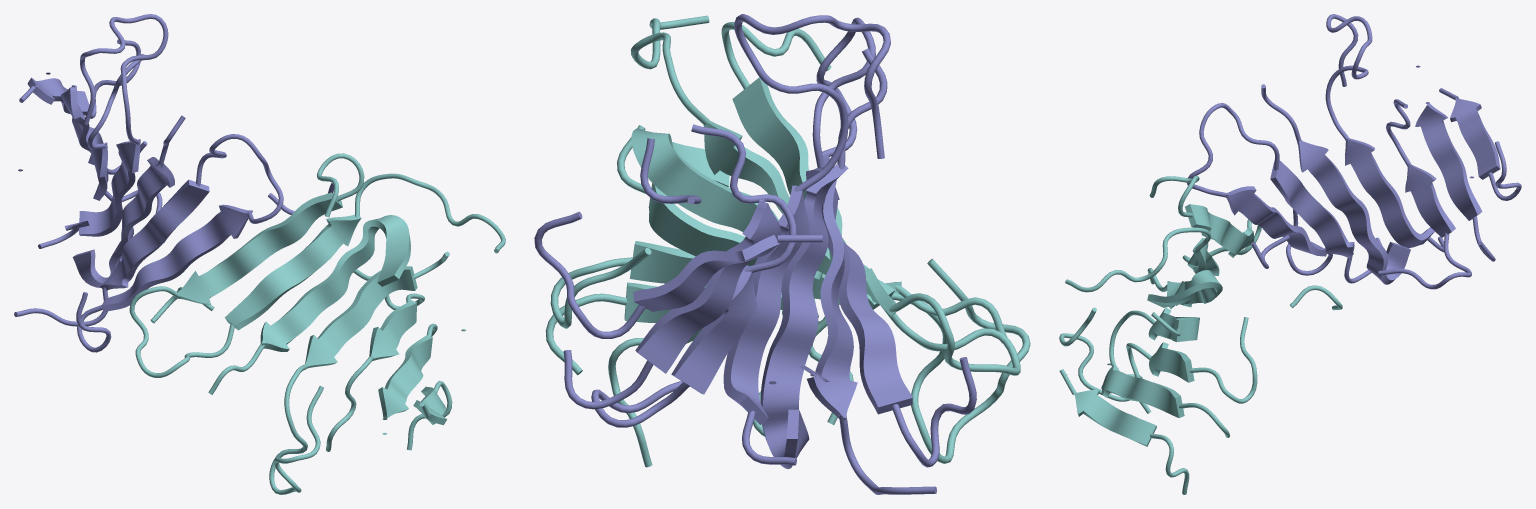
The model's file is 8H1B_sheets.fbx.
The picture shows the model from 3 angles, left to right: view 1: azimuth 30°, elevation 25°; view 2: azimuth 150°, elevation 25°; view 3: azimuth 270°, elevation 25°; orthographic projection. The views are drawn at different scales.
Visible parts, largest first — view 1: 8H1B_folds_sheets; view 2: 8H1B_folds_sheets; view 3: 8H1B_folds_sheets.
Boxes of the visible parts, <box> form: 8H1B_folds_sheets: <box>14,14,505,494</box>; 8H1B_folds_sheets: <box>534,14,1030,494</box>; 8H1B_folds_sheets: <box>1059,14,1521,494</box>.
Bounding box in the file's own units: 46.53 × 54.28 × 59.15.
